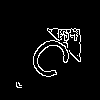C: (25, 25, 83, 84)
